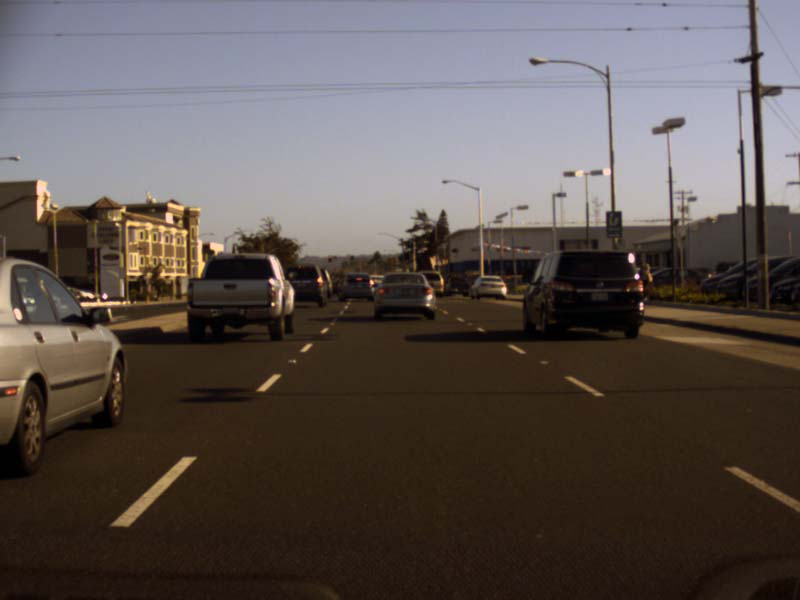Green: (350, 256, 354, 263)
Red: (328, 254, 332, 262)
